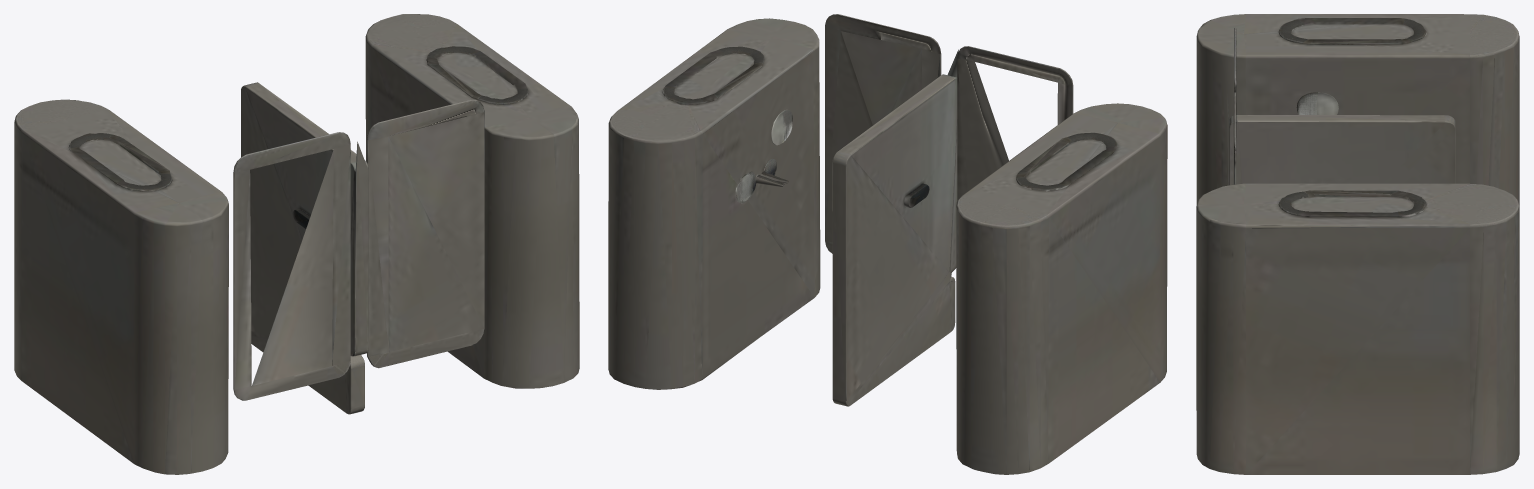
File: office-security-turnstile.glb
3 renders of one model, left to right at view 1: azimuth 30°, elevation 25°; view 2: azimuth 150°, elevation 25°; view 3: azimuth 270°, elevation 25°, orthographic.
Visible parts, largest first — view 1: security-turnstile; view 2: security-turnstile; view 3: security-turnstile.
Boxes of the visible parts, bbox=[...] form: security-turnstile: bbox=[14, 14, 579, 474]; security-turnstile: bbox=[608, 14, 1167, 474]; security-turnstile: bbox=[1196, 14, 1519, 474].
Size of the model in its own units: 1.59 by 1 by 1.02.
Materials: 1 (1 with a texture image).
